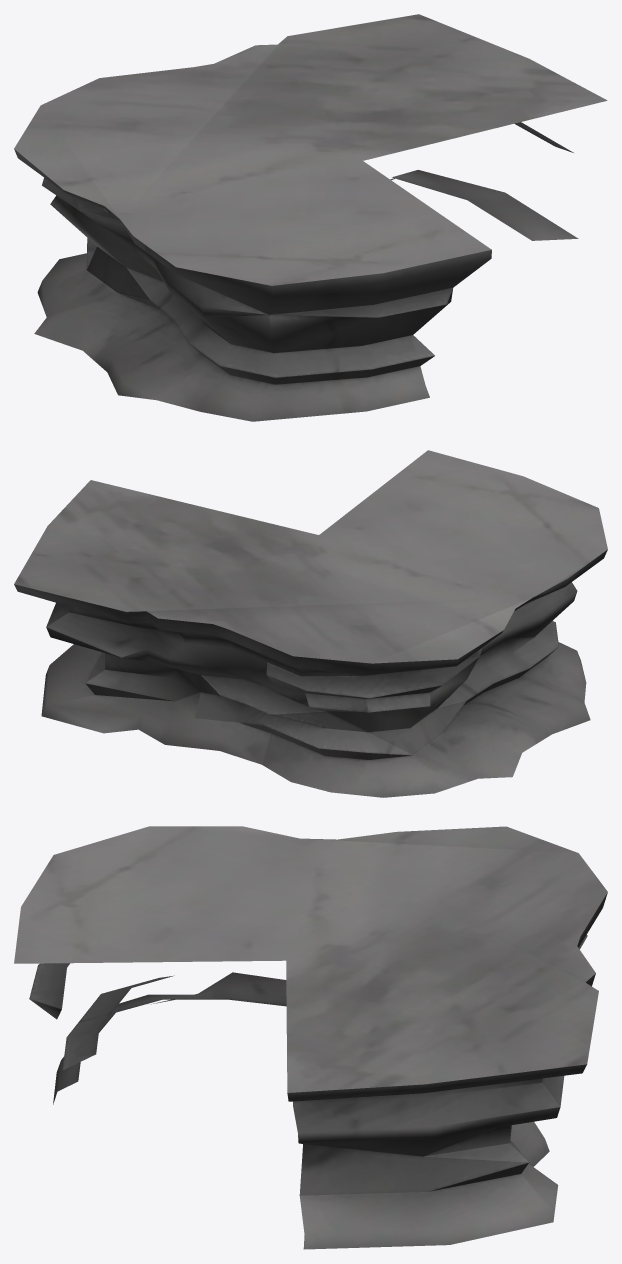
The picture shows the model from 3 angles, top to bottom: view 1: azimuth 30°, elevation 25°; view 2: azimuth 150°, elevation 25°; view 3: azimuth 270°, elevation 25°; orthographic projection. The views are drawn at different scales.
Parts seen in each view (by area): view 1: body0_model0_lod0_mesh0; view 2: body0_model0_lod0_mesh0; view 3: body0_model0_lod0_mesh0.
Part boxes in pixels (x1,y1,x2,y2): body0_model0_lod0_mesh0: (14,14,607,421); body0_model0_lod0_mesh0: (14,450,607,797); body0_model0_lod0_mesh0: (14,826,607,1249).
Size of the model in its own units: 383 by 111 by 347.
1 material, 1 textured.
